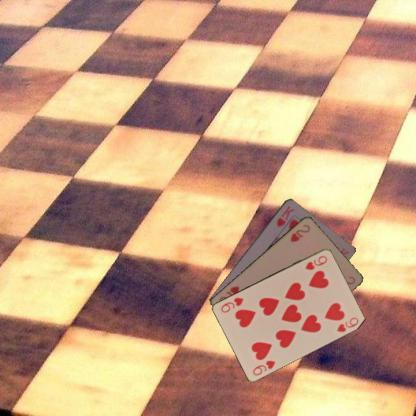2h: (288, 222, 311, 244)
9h: (250, 357, 277, 377), (302, 252, 329, 271)
Kh: (274, 203, 296, 228)
